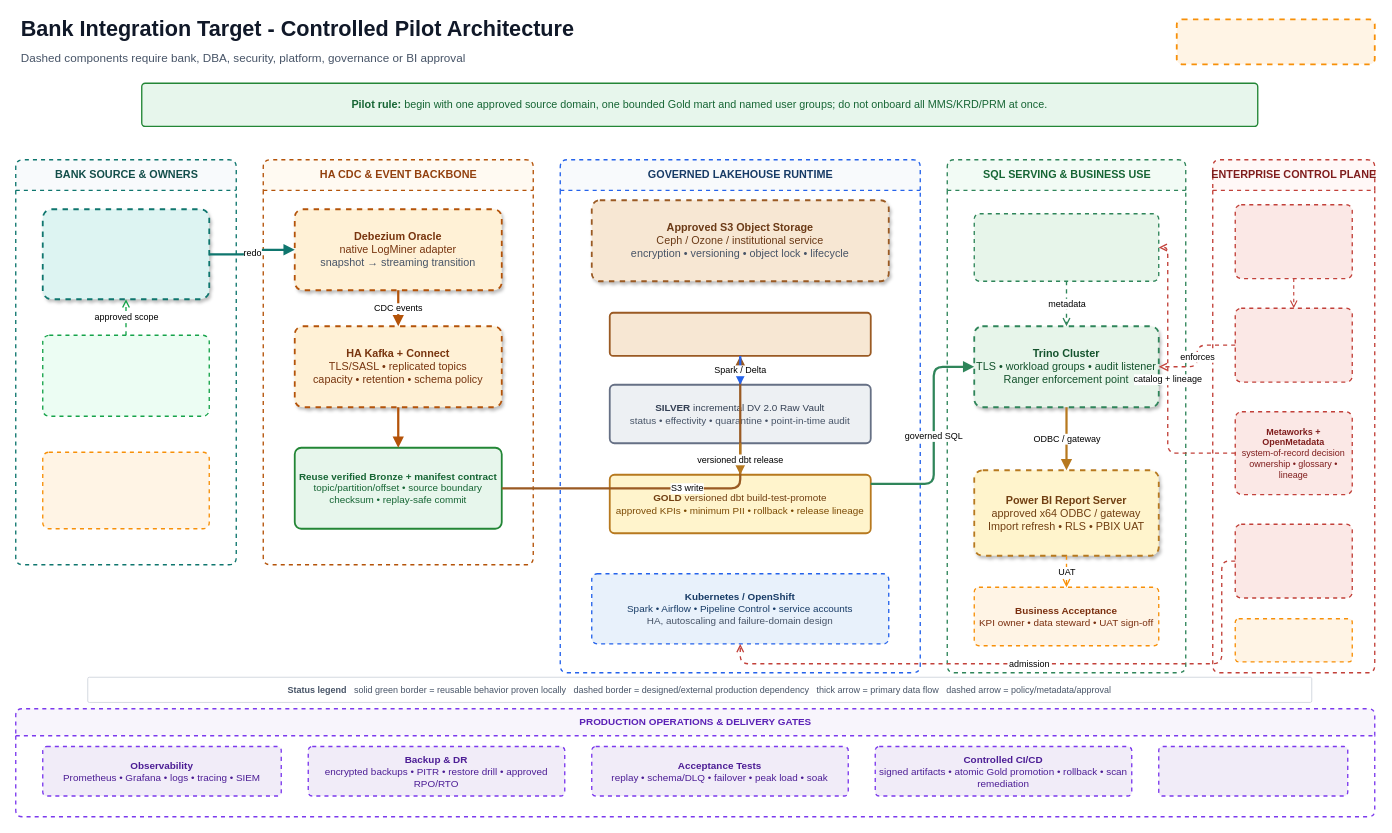
Image size: 1392x833. Some labels were removed from this diagram. The shapes that lost their labels are listed below. From the top down, each one's centre as x and y in pixels, then its label:
pixel 1275 41: DESIGNED / EXTERNAL Not production deployed
pixel 126 255: Oracle Core Banking approved MMS / KRD / PRM scope real redo + archive logs
pixel 1066 247: HA Catalog / Metastore backup • PITR • table lifecycle
pixel 1293 241: IAM + Secrets AD/LDAP • MFA Vault/KMS • rotation
pixel 739 333: BRONZE immutable CDC • canonical schema • raw DLQ
pixel 1293 344: Apache Ranger RBAC • masking row filters • audit
pixel 126 375: Signed Source Contract business keys • PII • SLA delete/time semantics • volumes
pixel 126 490: External gates Data Owner • Oracle DBA License • Network • Security
pixel 1293 560: OPA / Gatekeeper admission policy approved images • non-root
pixel 1293 640: KVKK / BDDK retention • legal hold security sign-off
pixel 1253 770: Named Owners on-call • escalation • SLO • change approval
